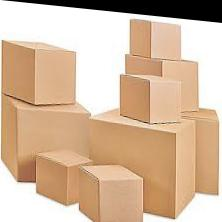cube: (3, 38, 77, 109), (77, 158, 144, 222), (119, 70, 178, 123), (129, 14, 182, 59)
